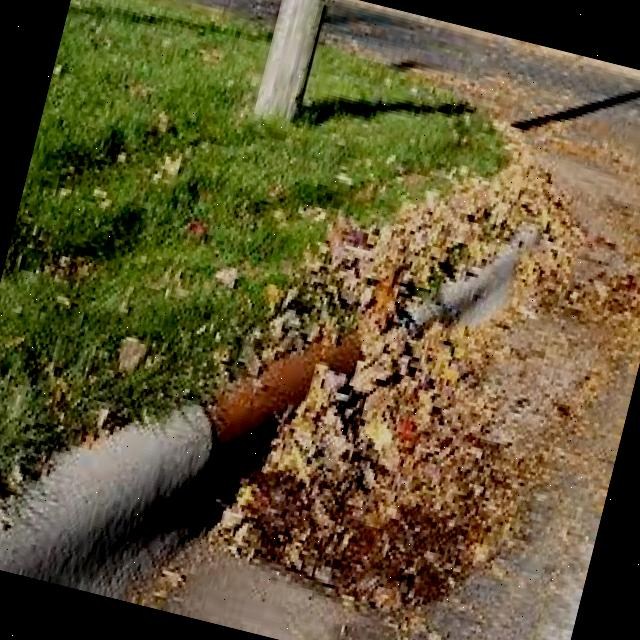curb: (1, 350, 353, 640), (382, 184, 545, 378), (249, 332, 387, 443)
